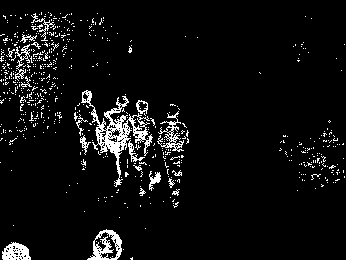person: (163, 102, 200, 211), (136, 96, 159, 199), (107, 91, 131, 188), (74, 89, 99, 166)
